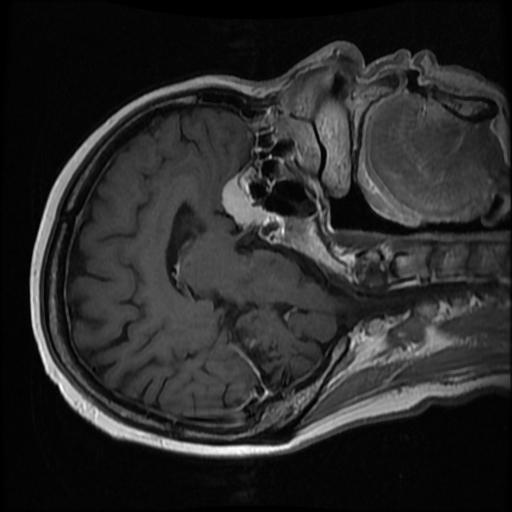meningioma: (220, 175, 265, 230)
